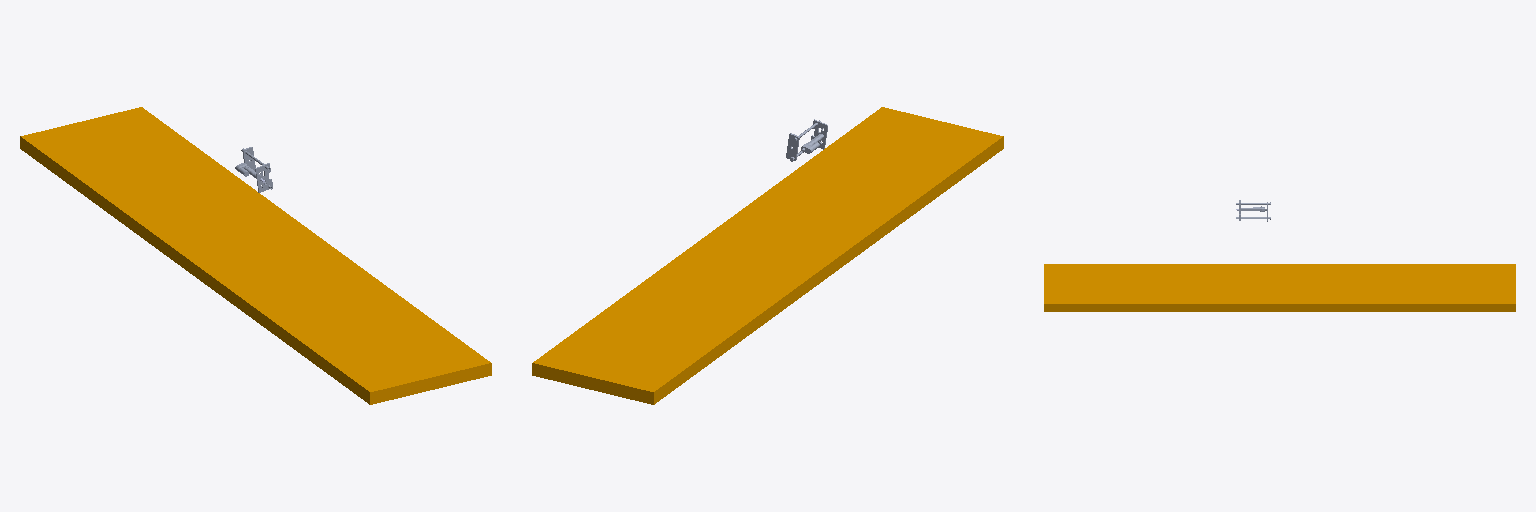
robot.urdf — actuator:
<?xml version="1.0" encoding="utf-8"?>
<!-- This URDF was automatically created by SolidWorks to URDF Exporter! Originally created by [author] ([email redacted]) 
     Commit Version: 1.5.1-0-g916b5db  Build Version: 1.5.7152.31018
     For more information, please see http://wiki.ros.org/sw_urdf_exporter -->
<robot
  name="actuator">
  <static>1 0 0</static>

  <link
    name="support">
    <inertial>
      <origin
        xyz="0 0 0"
        rpy="0 0 0" />
      <mass
        value="1000" />
      <inertia
        ixx="1000"
        ixy="0"
        ixz="0"
        iyy="1000"
        iyz="0"
        izz="1000" />
    </inertial>

    <visual>
      <origin
        xyz="0 0 0"
        rpy="0 0 0" />
      <geometry>
				<box size="1 5 0.1"/>
      </geometry>
    </visual>

    <collision>
      <origin
        xyz="0 0 0"
        rpy="0 0 0" />
      <geometry>
				<box size="1 5 0.1"/>
      </geometry>
    </collision>
  </link>

  <joint
    name="support_joint"
    type="fixed">
    <origin
      xyz="0 0 0.75"
      rpy="-3.1416 -1.4241 3.1416" />
    <parent
      link="support" />
    <child
      link="base_link" />
  </joint>

  <link
    name="base_link">
    <inertial>
      <origin
        xyz="0.102698693078248 0.185507014938219 0.237856750752446"
        rpy="0 0 0" />
      <mass
        value="1.69719752173322" />
      <inertia
        ixx="0.00461409373022473"
        ixy="2.10539538122137E-10"
        ixz="-3.27608375773942E-10"
        iyy="0.00506977728038184"
        iyz="-0.00024038463225421"
        izz="0.00164019075800988" />
    </inertial>
    <visual>
      <origin
        xyz="0 0 0"
        rpy="0 0 0" />
      <geometry>
        <mesh
          filename="package://actuator/meshes/base_link.STL" />
      </geometry>
      <material
        name="">
        <color
          rgba="0.666666666666667 0.698039215686274 0.768627450980392 1" />
      </material>
    </visual>
    <collision>
      <origin
        xyz="0 0 0"
        rpy="0 0 0" />
      <geometry>
        <mesh
          filename="package://actuator/meshes/base_link.STL" />
      </geometry>
    </collision>
  </link>

  <link
    name="actuator_rod">
    <inertial>
      <origin
        xyz="-6.12794875953782E-09 0.0860228529586428 -3.0171669812562E-07"
        rpy="0 0 0" />
      <mass
        value="0.141742027033077" />
      <inertia
        ixx="0.1"
        ixy="3.01174317665818E-11"
        ixz="2.43429637951659E-11"
        iyy="0.1"
        iyz="1.19300588695323E-10"
        izz="0.1" />
    </inertial>
    <visual>
      <origin
        xyz="0 0 0"
        rpy="0 0 0" />
      <geometry>
        <mesh
          filename="package://actuator/meshes/actuator rod.STL" />
      </geometry>
      <material
        name="">
        <color
          rgba="0.796078431372549 0.823529411764706 0.937254901960784 1" />
      </material>
    </visual>
    <collision>
      <origin
        xyz="0 0 0"
        rpy="0 0 0" />
      <geometry>
        <mesh
          filename="package://actuator/meshes/actuator rod.STL" />
      </geometry>
    </collision>
  </link>

  <joint
    name="actuator_joint"
    type="prismatic">
    <origin
      xyz="0.1027 -0.47008 0.19302"
      rpy="-3.1416 -1.4241 3.1416" />
    <parent
      link="base_link" />
    <child
      link="actuator_rod" />
    <axis
      xyz="0 1 0" />
    <limit
      lower="-0.2"
      upper="0.2"
      effort="1000"
      velocity="0.5" />
  </joint>

  <transmission name="rod_trans" type="SimpleTransmission">
    <type>transmission_interface/SimpleTransmission</type>
    <actuator name="Rod_Motor">
      <mechanicalReduction>1</mechanicalReduction>
    </actuator>
    <joint name="actuator_joint">
      <hardwareInterface>EffortJointInterface</hardwareInterface>
    </joint>
  </transmission>

  <gazebo>
    <plugin name="gazebo_ros_control" filename="libgazebo_ros_control.so">
    </plugin>
  </gazebo>

</robot>

--- Facts derived from the render (not from the file) ---
Views: 3 orthographic renders of the robot side by side, from view 1: azimuth 30°, elevation 25°; view 2: azimuth 150°, elevation 25°; view 3: azimuth 270°, elevation 25°.
Robot: actuator — 3 links, 2 joints (1 prismatic, 1 fixed); root link support; default pose: every joint at zero.
Links seen in each view (by area): view 1: support, base_link; view 2: support, base_link; view 3: support.
Boxes of the visible links, x1,y1,x2,y2 form: support: [20, 107, 491, 404]; base_link: [235, 147, 272, 192]; support: [532, 107, 1003, 404]; base_link: [786, 119, 827, 161]; support: [1044, 264, 1515, 311].
Size in the robot's own frame: 1 by 5 by 0.988 metres.
2 mesh visuals loaded from 2 distinct referenced files (2 binary STL).